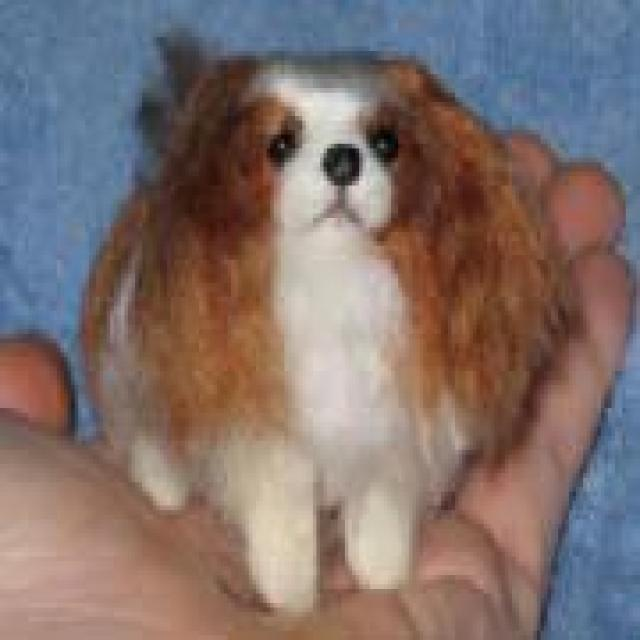husky: (78, 23, 569, 603)
